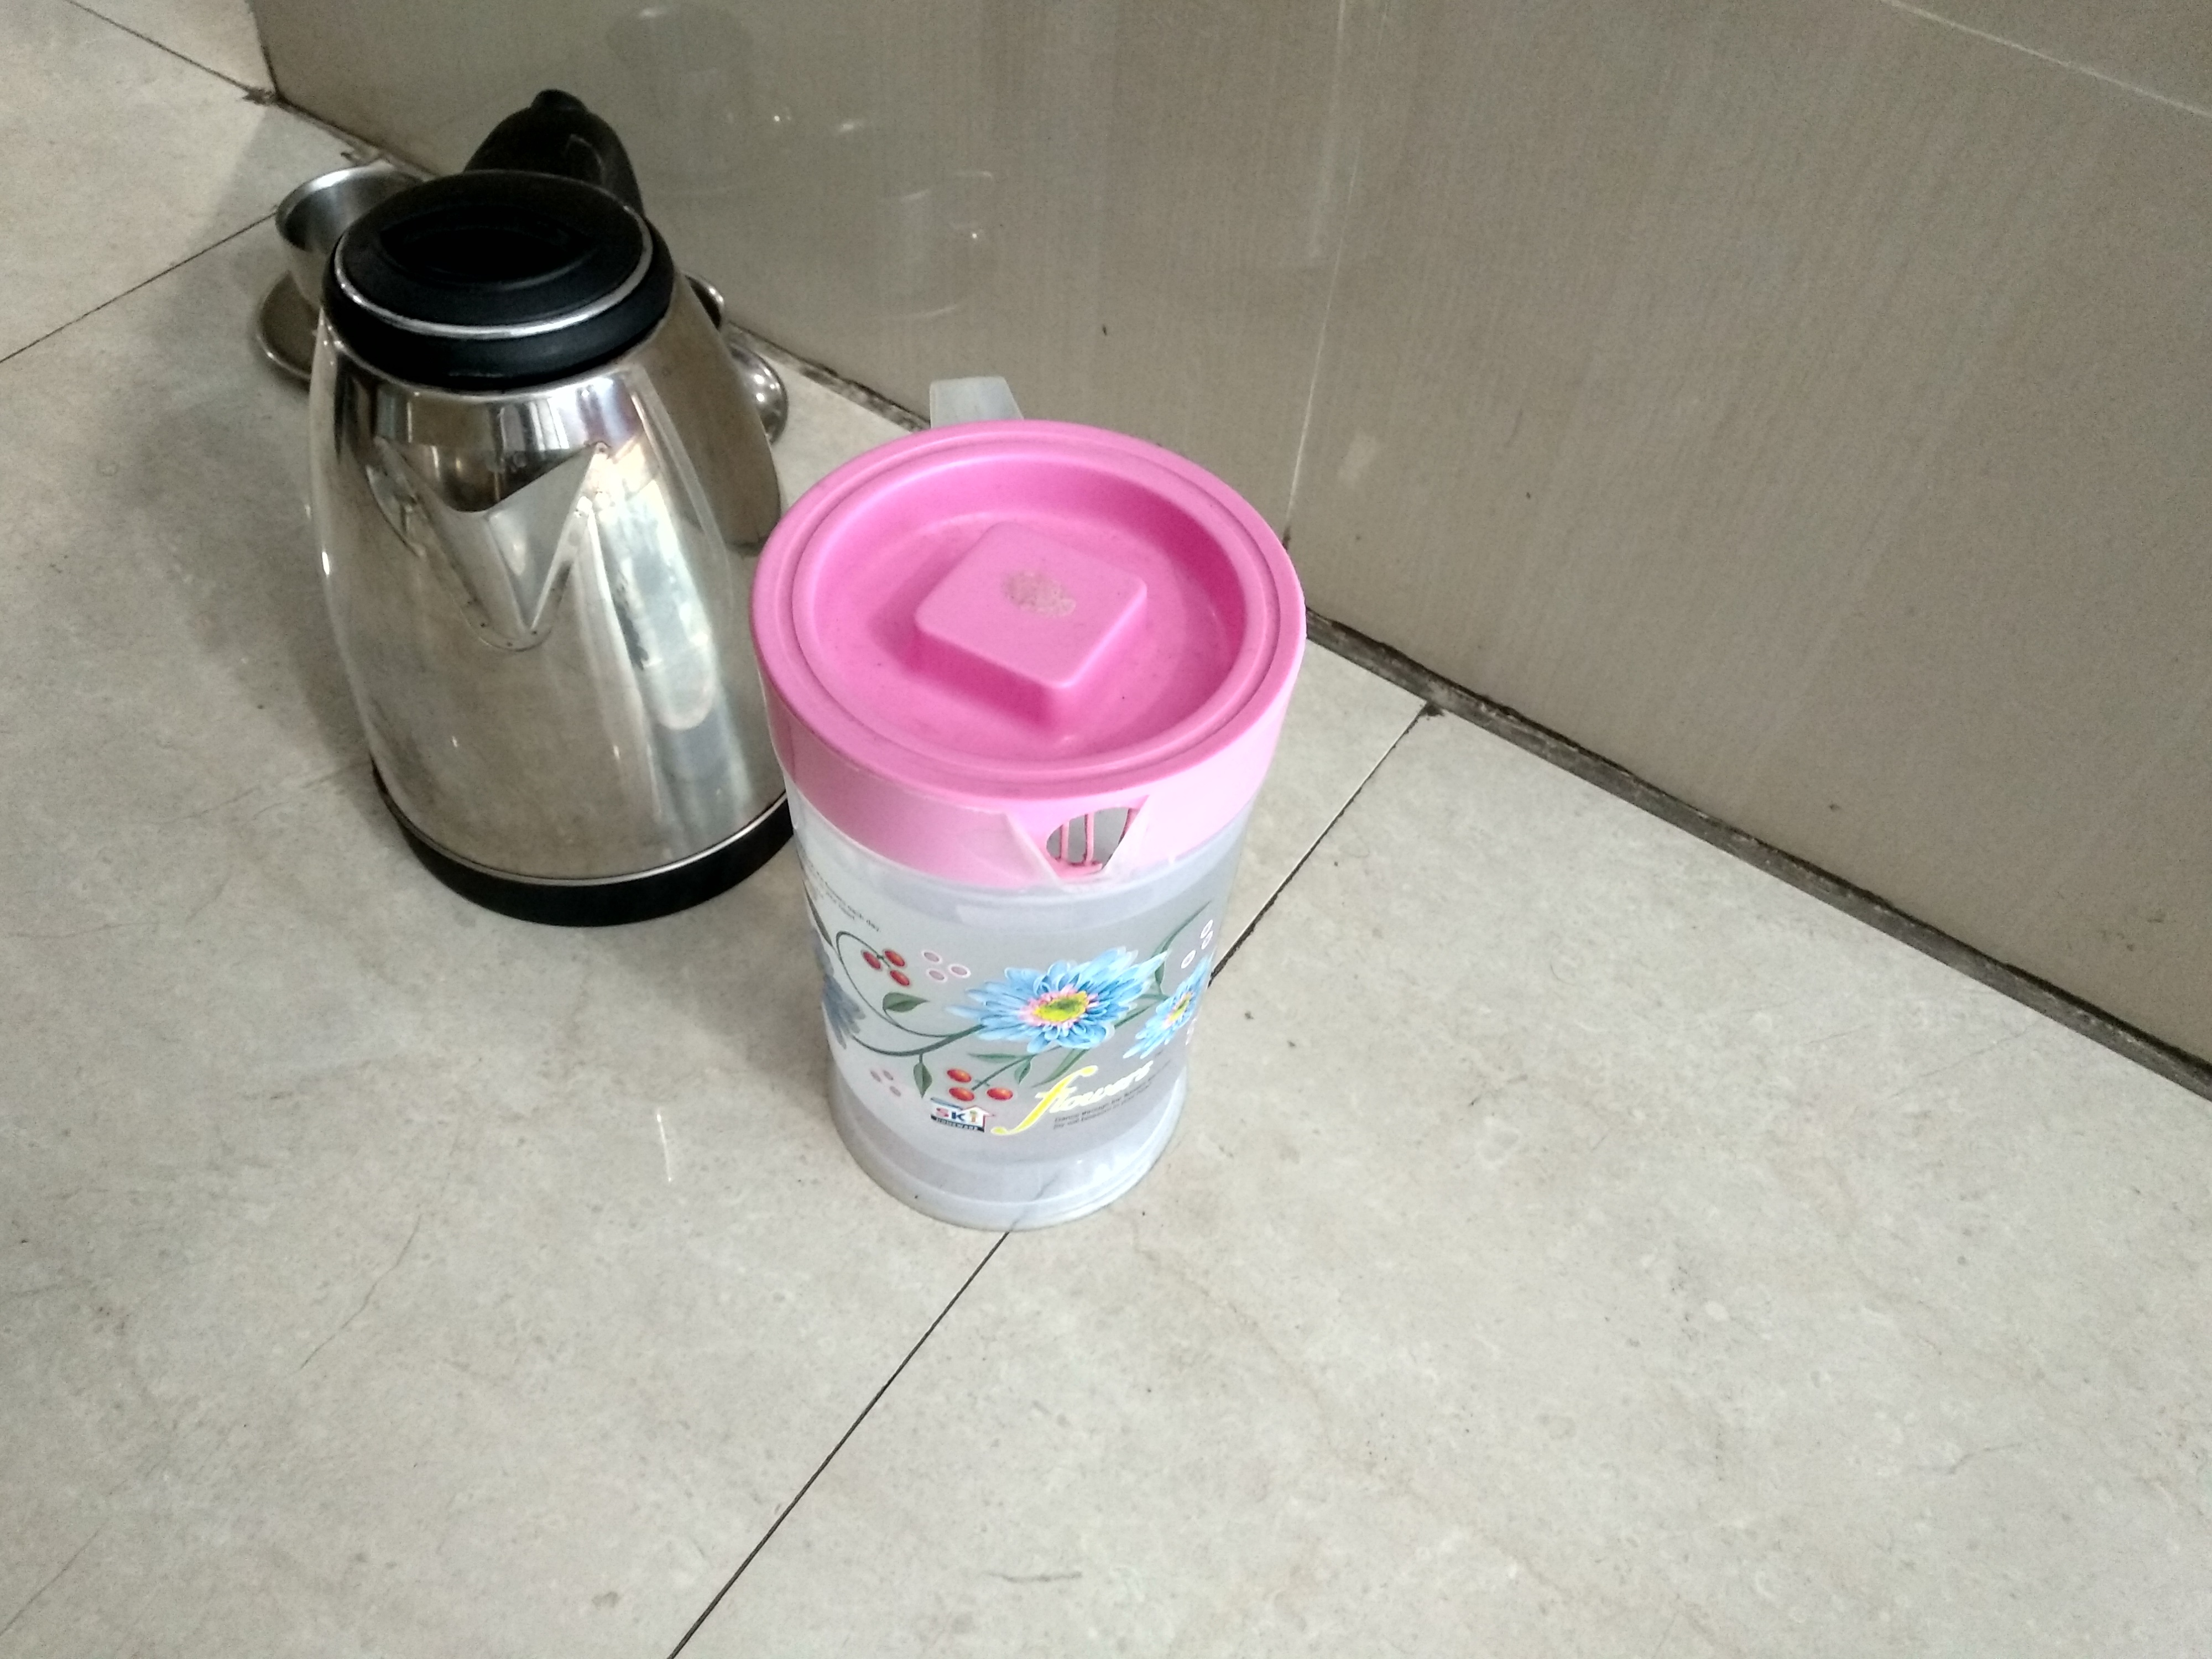JUG: (752, 336, 1329, 1277), (317, 106, 791, 945)
